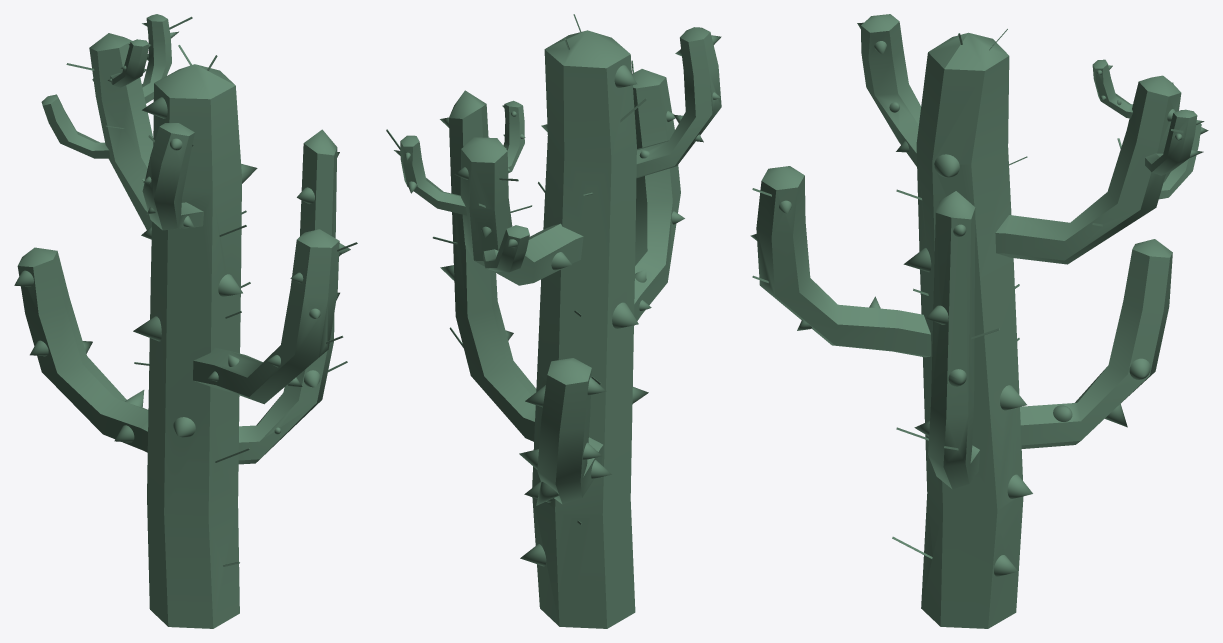
Rendered from CactusGreen.fbx.
The picture shows the model from 3 angles, left to right: view 1: azimuth 30°, elevation 25°; view 2: azimuth 150°, elevation 25°; view 3: azimuth 270°, elevation 25°; orthographic projection. The views are drawn at different scales.
Parts seen in each view (by area): view 1: pCube24; view 2: pCube24; view 3: pCube24.
Boxes of the visible parts, box(x1,y1,x2,y2) form: pCube24: box(14, 14, 357, 628); pCube24: box(386, 14, 721, 628); pCube24: box(750, 14, 1208, 628).
Size of the model in its own units: 2.47 by 5.41 by 3.84.
